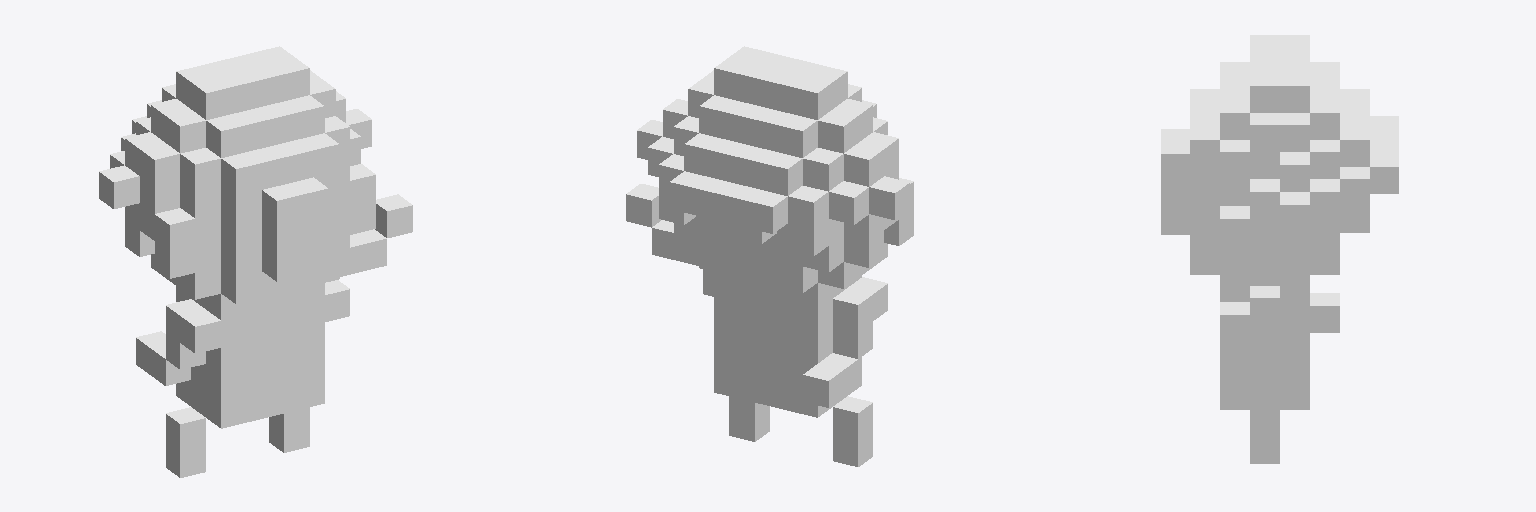
The model's file is BackDance1.obj.
The picture shows the model from 3 angles: view 1: azimuth 30°, elevation 25°; view 2: azimuth 150°, elevation 25°; view 3: azimuth 270°, elevation 25°; orthographic projection.
Parts seen in each view (by area): view 1: BackDance1; view 2: BackDance1; view 3: BackDance1.
Boxes of the visible parts, box(x1,y1,x2,y2) form: BackDance1: box(99, 46, 412, 477); BackDance1: box(626, 46, 913, 466); BackDance1: box(1161, 35, 1398, 463).
Size of the model in its own units: 11 by 14 by 8.